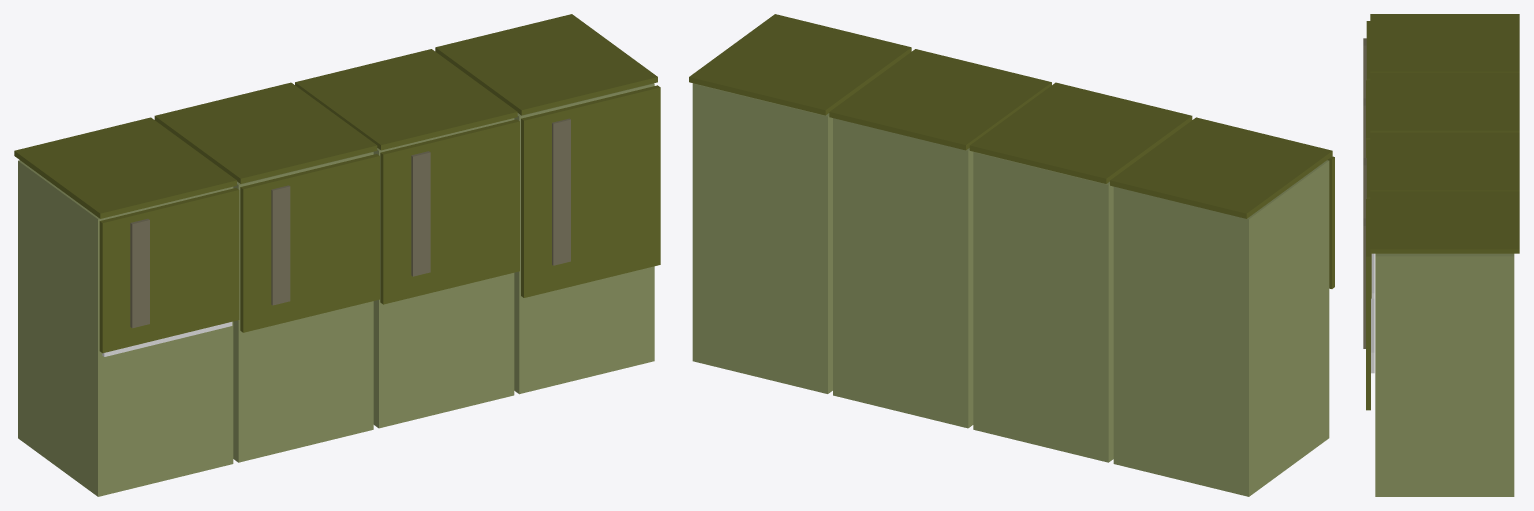
Rendered from SM_HescoCorto4_v4_Red_e0_Sano_LOD1.fbx.
3 renders of one model, left to right at view 1: azimuth 30°, elevation 25°; view 2: azimuth 150°, elevation 25°; view 3: azimuth 270°, elevation 25°, orthographic. The views are drawn at different scales.
Visible parts, largest first — view 1: SM_hesco_piezas_v116_LOD1; view 2: SM_hesco_piezas_v116_LOD1; view 3: SM_hesco_piezas_v116_LOD1.
Part boxes in pixels (box(x1,y1,x2,y2)): SM_hesco_piezas_v116_LOD1: box(14, 14, 660, 496); SM_hesco_piezas_v116_LOD1: box(689, 14, 1334, 496); SM_hesco_piezas_v116_LOD1: box(1363, 14, 1519, 496).
Bounding box in the file's own units: 4.41 × 2.16 × 1.23.
